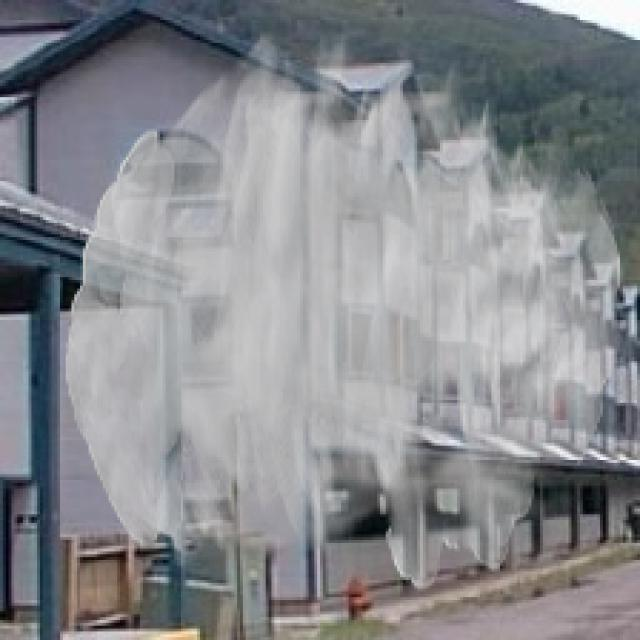Smoke: (66, 26, 623, 592)
